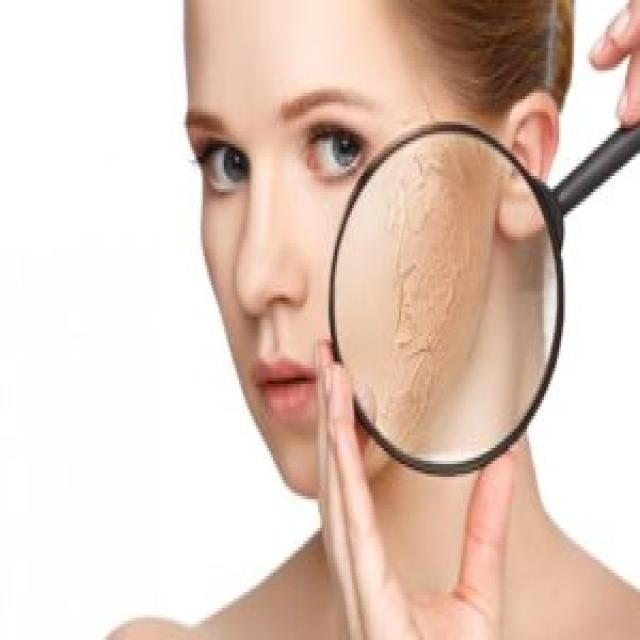Dry-Skin: (379, 134, 505, 469)
